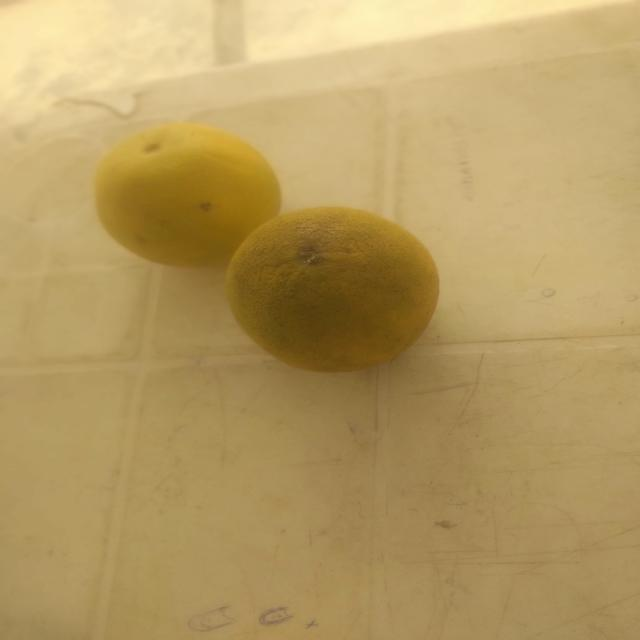Ripe orange: (212, 210, 447, 384), (68, 130, 274, 282)
